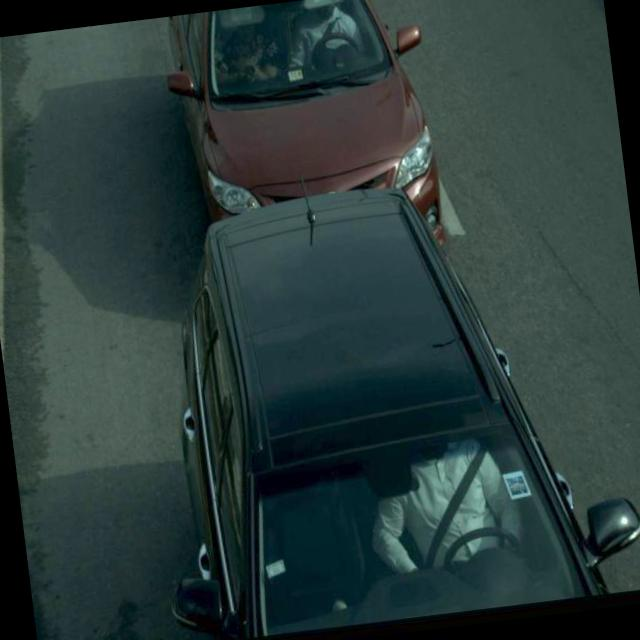person_with_seatbelt: (391, 432, 530, 594)
